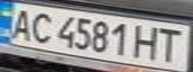1: (109, 20, 133, 56)
4: (51, 12, 78, 48)
5: (72, 16, 93, 52)
8: (90, 18, 112, 54)
A: (3, 6, 36, 42)
C: (27, 9, 57, 44)
H: (130, 22, 163, 61)
T: (154, 25, 187, 63)
